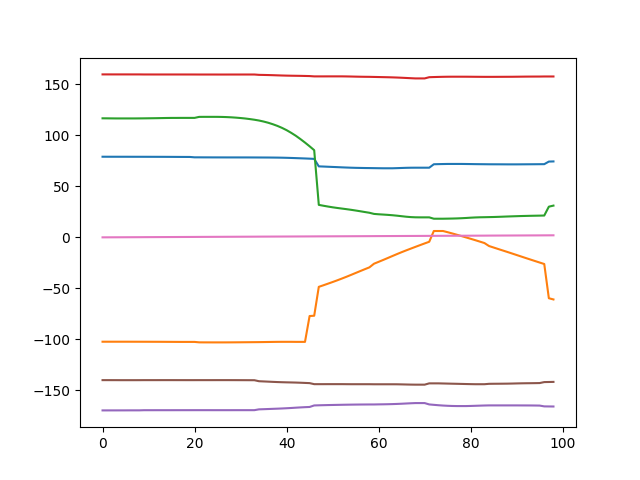Too_Fast_Down: (1, 1, 640, 480)
